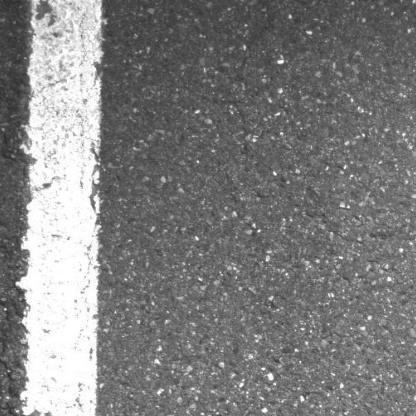Cracks: (0, 36, 24, 234), (0, 269, 18, 400)
